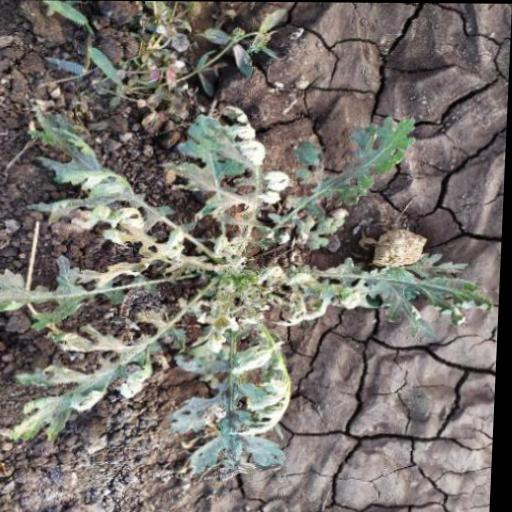weed: (0, 102, 494, 458)
